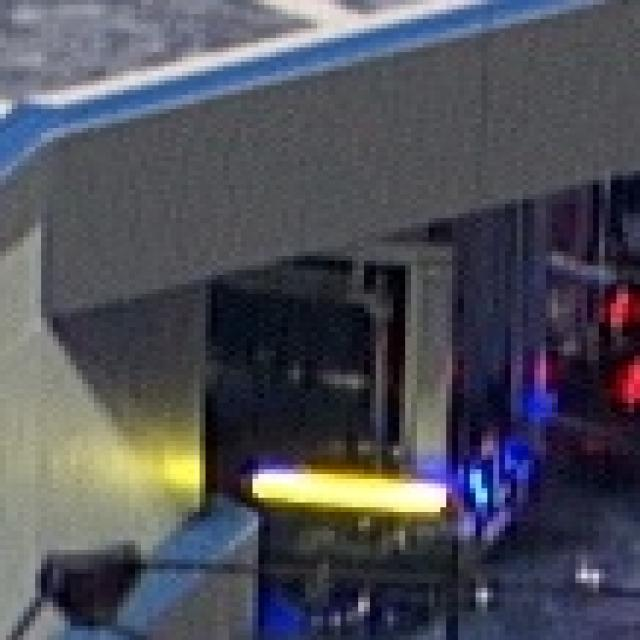B2: (455, 417, 543, 526)
